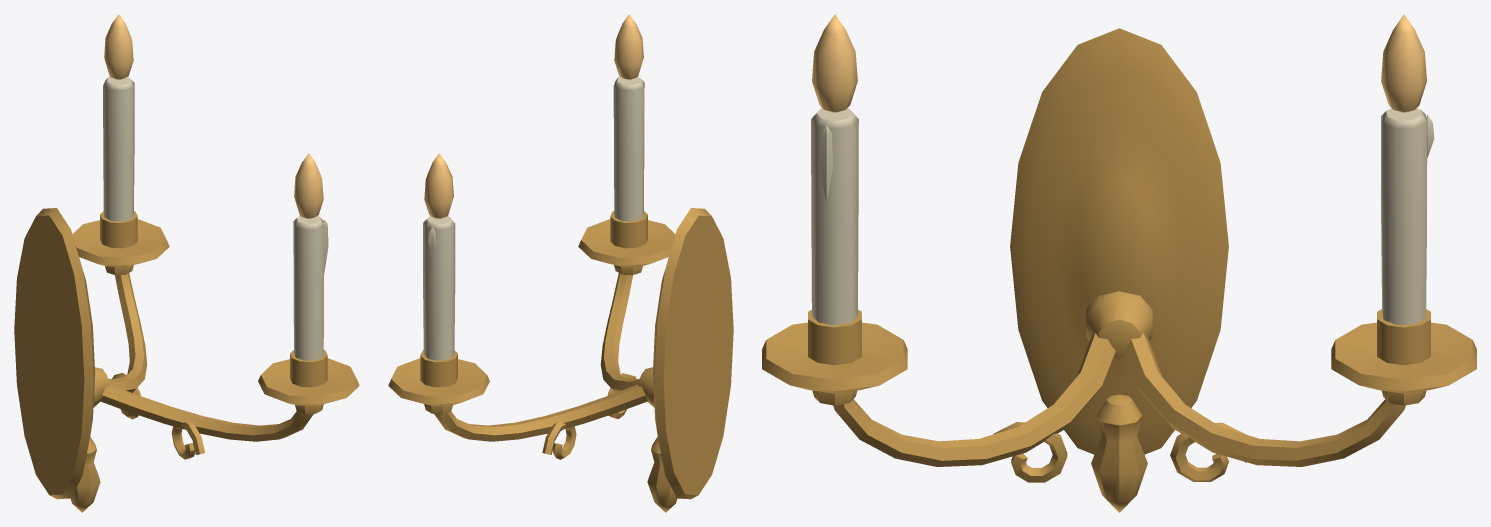
File: candle_sconce.glb
3 views of the same model, side by side, from view 1: azimuth 30°, elevation 25°; view 2: azimuth 150°, elevation 25°; view 3: azimuth 270°, elevation 25° (orthographic). The views are drawn at different scales.
Parts seen in each view (by area): view 1: schild, kerzen, teller, flammen; view 2: schild, kerzen, teller, flammen; view 3: schild, kerzen, teller, flammen.
Part boxes in pixels (<box>): schild: <box>14,208,323,512</box>; kerzen: <box>103,76,328,360</box>; teller: <box>72,211,359,406</box>; flammen: <box>104,14,323,218</box>; schild: <box>424,208,733,512</box>; kerzen: <box>423,76,644,360</box>; teller: <box>388,211,675,406</box>; flammen: <box>424,14,643,218</box>; schild: <box>812,28,1426,512</box>; kerzen: <box>811,107,1434,325</box>; teller: <box>762,309,1476,393</box>; flammen: <box>812,14,1426,112</box>.
Bounding box in the file's own units: 0.165 × 0.3 × 0.3266.
